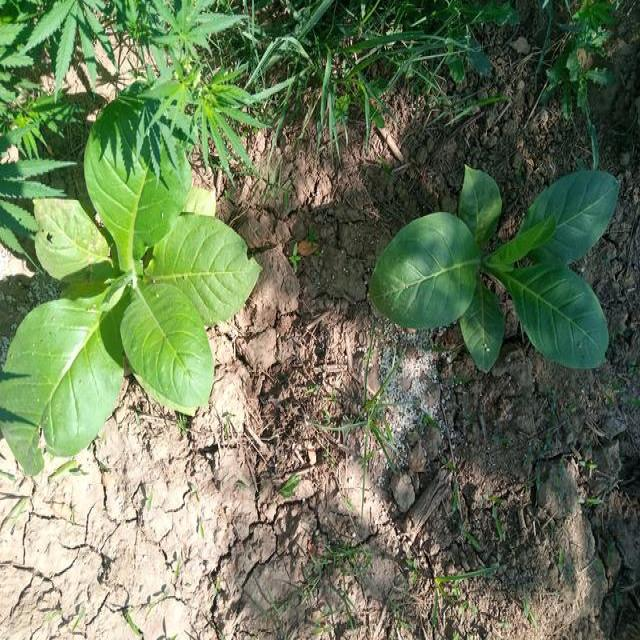crop: (16, 126, 248, 468), (394, 171, 603, 376)
